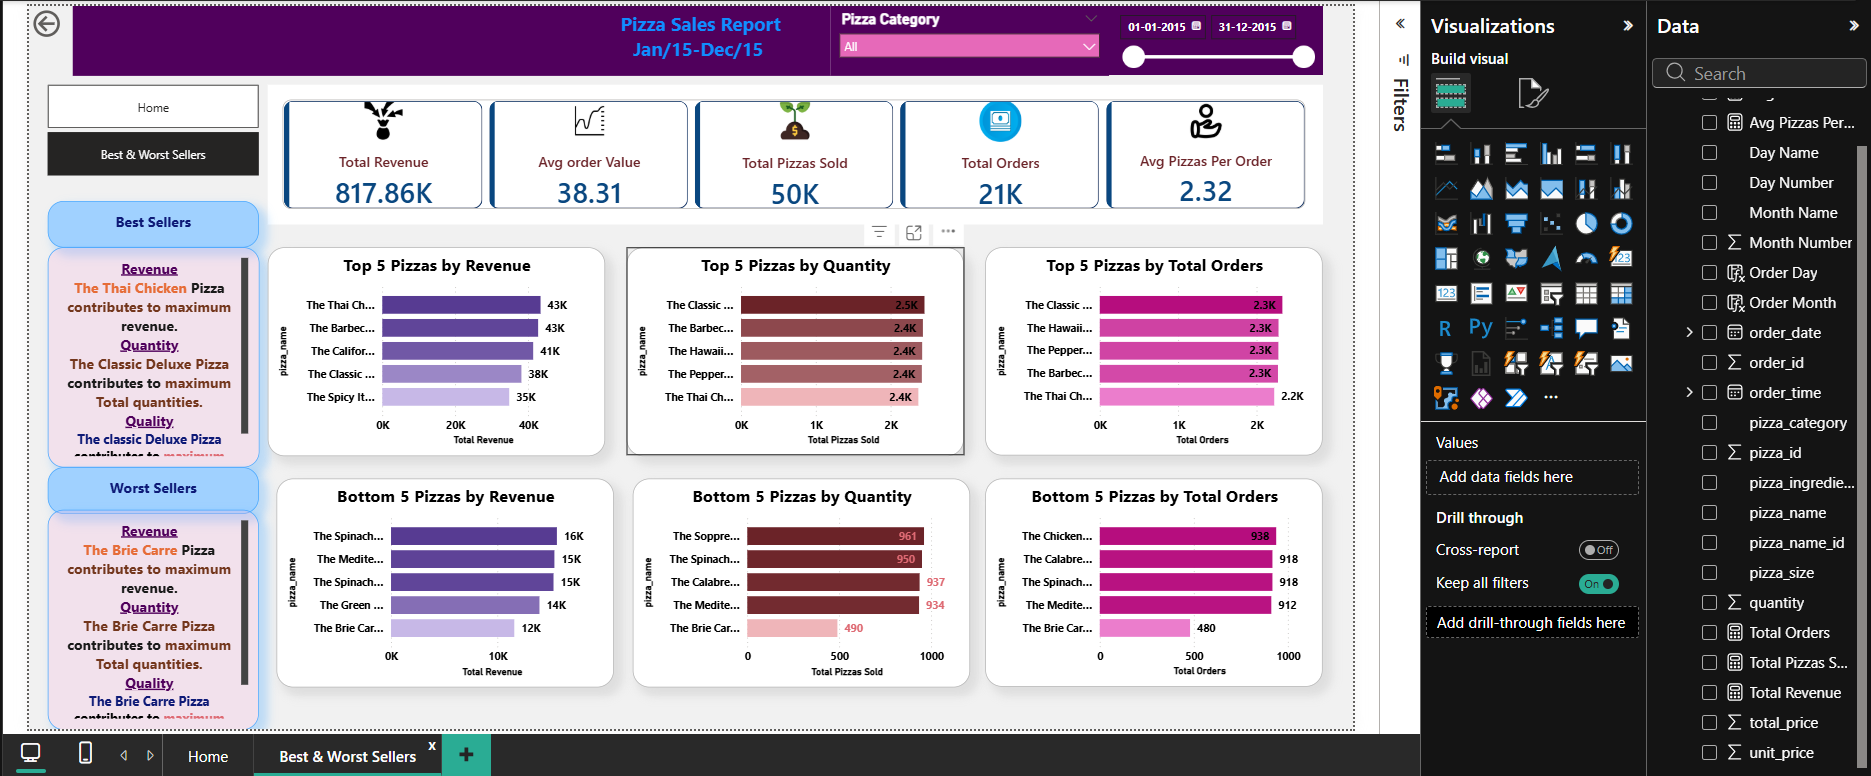

What the dashboard file says about the page in this screenshot:
{"tool":"powerbi","page":{"name":"Best & Worst Sellers","canvas":[1500,820],"ordinal":1},"visuals":[{"type":"cardVisual","fields":{"Data":["pizza_sales.Total Revenue","pizza_sales.Avg order Value","pizza_sales.Total Pizzas Sold","pizza_sales.Total Orders","pizza_sales.Avg Pizzas Per Order"]},"box":[270.6,89.3,1195.7,158.7],"z":0},{"type":"actionButton","box":[0,0,100,40],"z":1000},{"type":"textbox","box":[21.3,221,239.4,52.4],"z":7000},{"type":"textbox","box":[20.9,273.4,239.6,249.3],"z":8000},{"type":"textbox","box":[21.3,522.8,239.4,52.4],"z":9000},{"type":"textbox","box":[21.3,570.9,239.4,249.3],"z":10000},{"type":"slicer","fields":{"Values":["pizza_sales.pizza_category"]},"box":[908.1,0,315.9,79.3],"z":11000},{"type":"slicer","fields":{"Values":["pizza_sales.order_date"]},"box":[1224.1,0,242.3,77.9],"z":12000},{"type":"textbox","box":[49.6,0,858.5,79.3],"z":13000},{"type":"clusteredBarChart","title":"Top 5 Pizzas by Revenue","fields":{"Category":["pizza_sales.pizza_name"],"Y":["pizza_sales.Total Revenue"]},"box":[270.6,273.4,382.5,236.6],"z":13001},{"type":"clusteredBarChart","title":"Bottom 5 Pizzas by Revenue","fields":{"Category":["pizza_sales.pizza_name"],"Y":["pizza_sales.Total Revenue"]},"box":[280.5,535.5,382.5,236.6],"z":13002},{"type":"clusteredBarChart","title":"Top 5 Pizzas by Quantity","fields":{"Category":["pizza_sales.pizza_name"],"Y":["pizza_sales.Total Pizzas Sold"]},"box":[677.2,273.4,382.5,236.6],"z":13003},{"type":"clusteredBarChart","title":"Bottom 5 Pizzas by Quantity","fields":{"Category":["pizza_sales.pizza_name"],"Y":["pizza_sales.Total Pizzas Sold"]},"box":[684.3,535.5,382.5,236.6],"z":13004},{"type":"clusteredBarChart","title":"Top 5 Pizzas by Total Orders","fields":{"Category":["pizza_sales.pizza_name"],"Y":["pizza_sales.Total Orders"]},"box":[1083.8,273.4,382.7,236.4],"z":13005},{"type":"clusteredBarChart","title":"Bottom 5 Pizzas by Total Orders","fields":{"Category":["pizza_sales.pizza_name"],"Y":["pizza_sales.Total Orders"]},"box":[1083.8,535.5,382.7,236.4],"z":13006},{"type":"pageNavigator","box":[21.3,143.1,239.4,49.6],"z":13007},{"type":"pageNavigator","box":[21.3,89.3,239.4,49.6],"z":13008}]}

Visuals, with their boxes on the page's 1500x820 design canvas (x1, y1, x2, y2). These are canvas units, not pixel positions in the 1871x776 screenshot, which may show the page scaled, cropped or inside an application window:
cardVisual - pizza_sales.Total Revenue x pizza_sales.Avg order Value: Rect(271, 89, 1466, 248)
actionButton: Rect(0, 0, 100, 40)
textbox: Rect(21, 221, 261, 273)
textbox: Rect(21, 273, 260, 523)
textbox: Rect(21, 523, 261, 575)
textbox: Rect(21, 571, 261, 820)
slicer - pizza_sales.pizza_category: Rect(908, 0, 1224, 79)
slicer - pizza_sales.order_date: Rect(1224, 0, 1466, 78)
textbox: Rect(50, 0, 908, 79)
"Top 5 Pizzas by Revenue" clusteredBarChart: Rect(271, 273, 653, 510)
"Bottom 5 Pizzas by Revenue" clusteredBarChart: Rect(280, 536, 663, 772)
"Top 5 Pizzas by Quantity" clusteredBarChart: Rect(677, 273, 1060, 510)
"Bottom 5 Pizzas by Quantity" clusteredBarChart: Rect(684, 536, 1067, 772)
"Top 5 Pizzas by Total Orders" clusteredBarChart: Rect(1084, 273, 1466, 510)
"Bottom 5 Pizzas by Total Orders" clusteredBarChart: Rect(1084, 536, 1466, 772)
pageNavigator: Rect(21, 143, 261, 193)
pageNavigator: Rect(21, 89, 261, 139)
